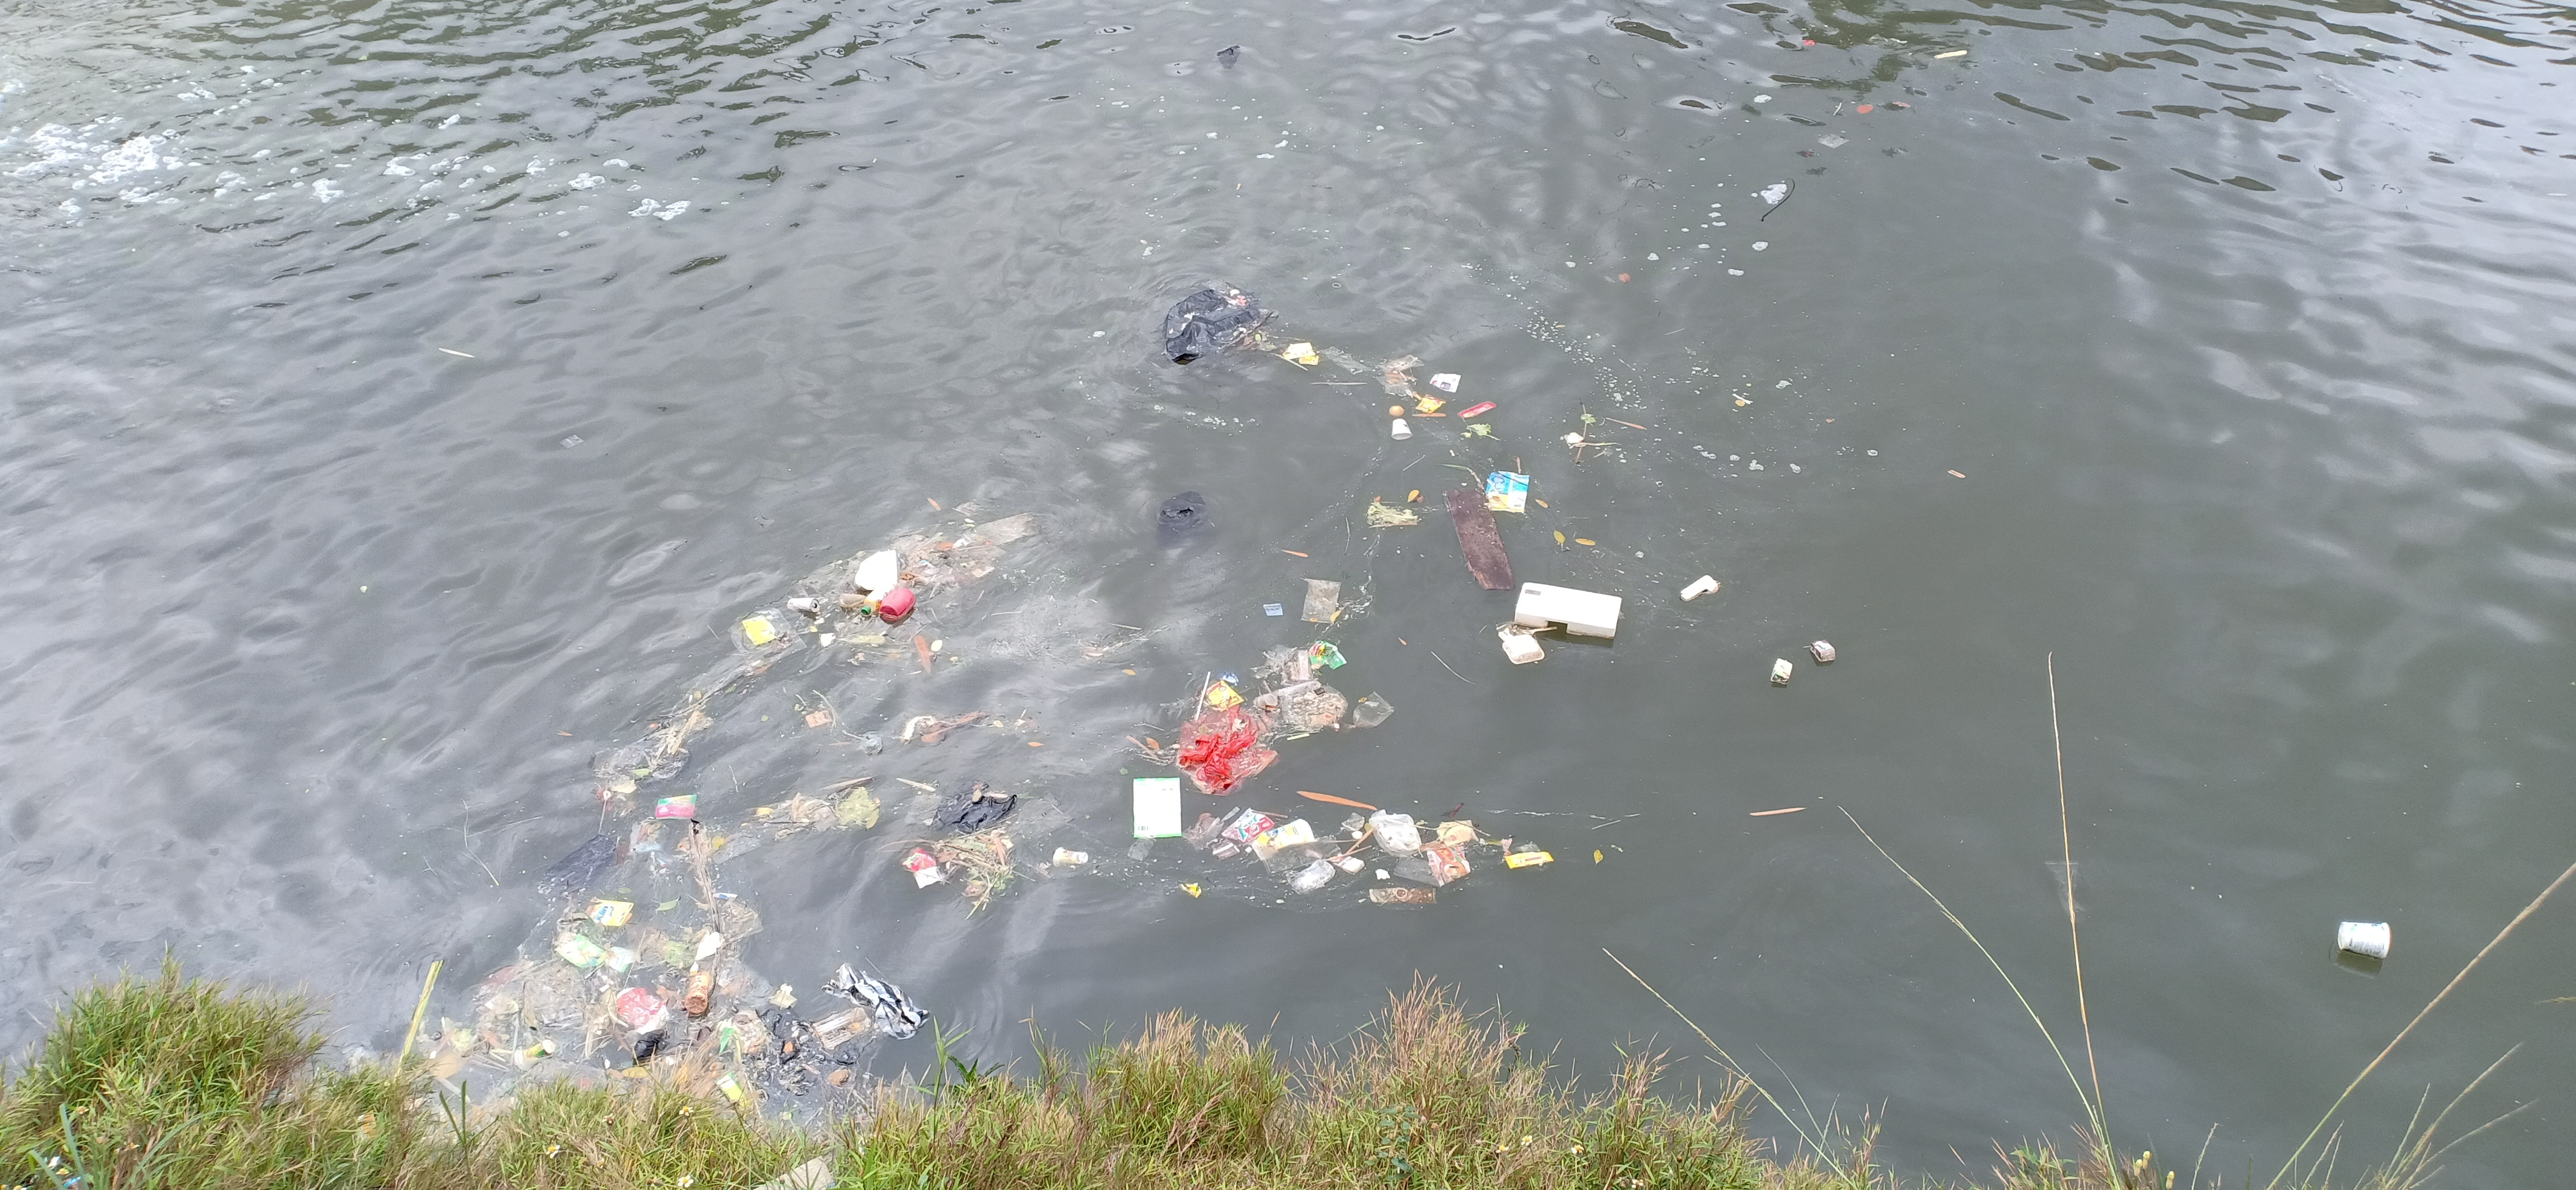Plastic Bottle: (862, 577, 895, 615), (683, 971, 708, 1014), (839, 592, 864, 610), (1252, 692, 1276, 708)
